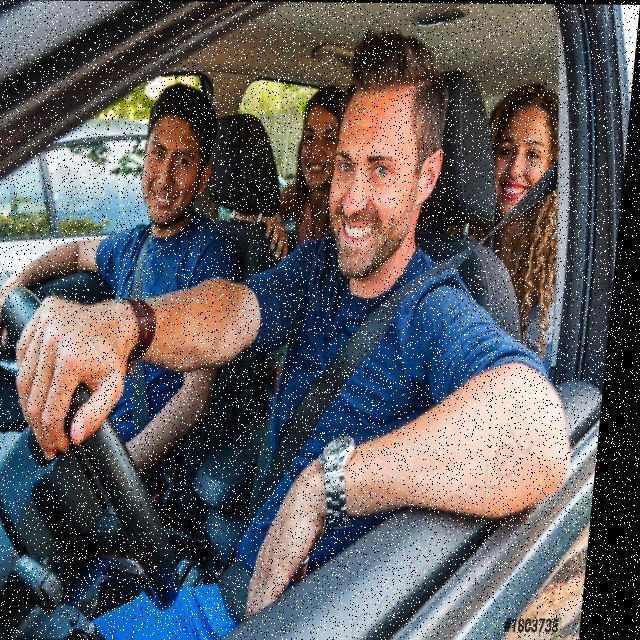seatbelt: (274, 240, 436, 546), (108, 222, 186, 440)
